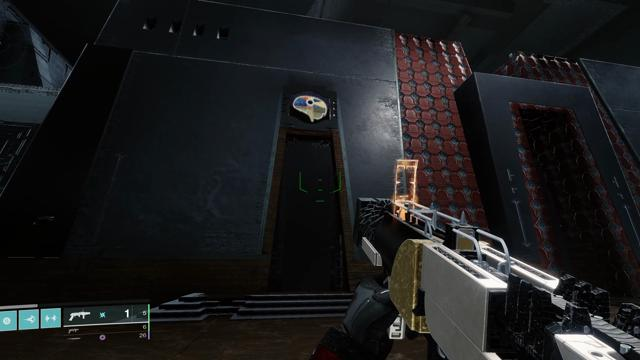brain: (289, 90, 331, 126)
